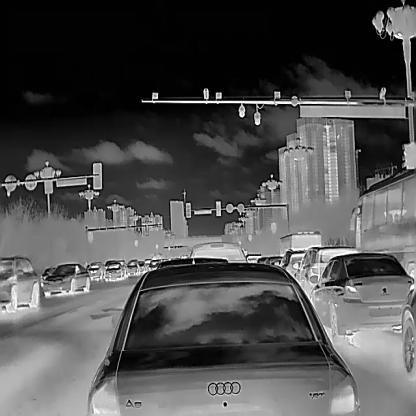bus: (347, 163, 415, 281), (276, 228, 320, 258)
car: (85, 259, 360, 415), (307, 249, 414, 346), (293, 242, 358, 297), (0, 253, 38, 312), (40, 259, 90, 297), (401, 282, 415, 377), (189, 240, 247, 262), (272, 246, 308, 276), (40, 264, 58, 288), (86, 260, 106, 281), (104, 261, 127, 279), (126, 257, 141, 276), (257, 255, 282, 265), (146, 258, 160, 270), (246, 253, 261, 261), (137, 259, 146, 272)
